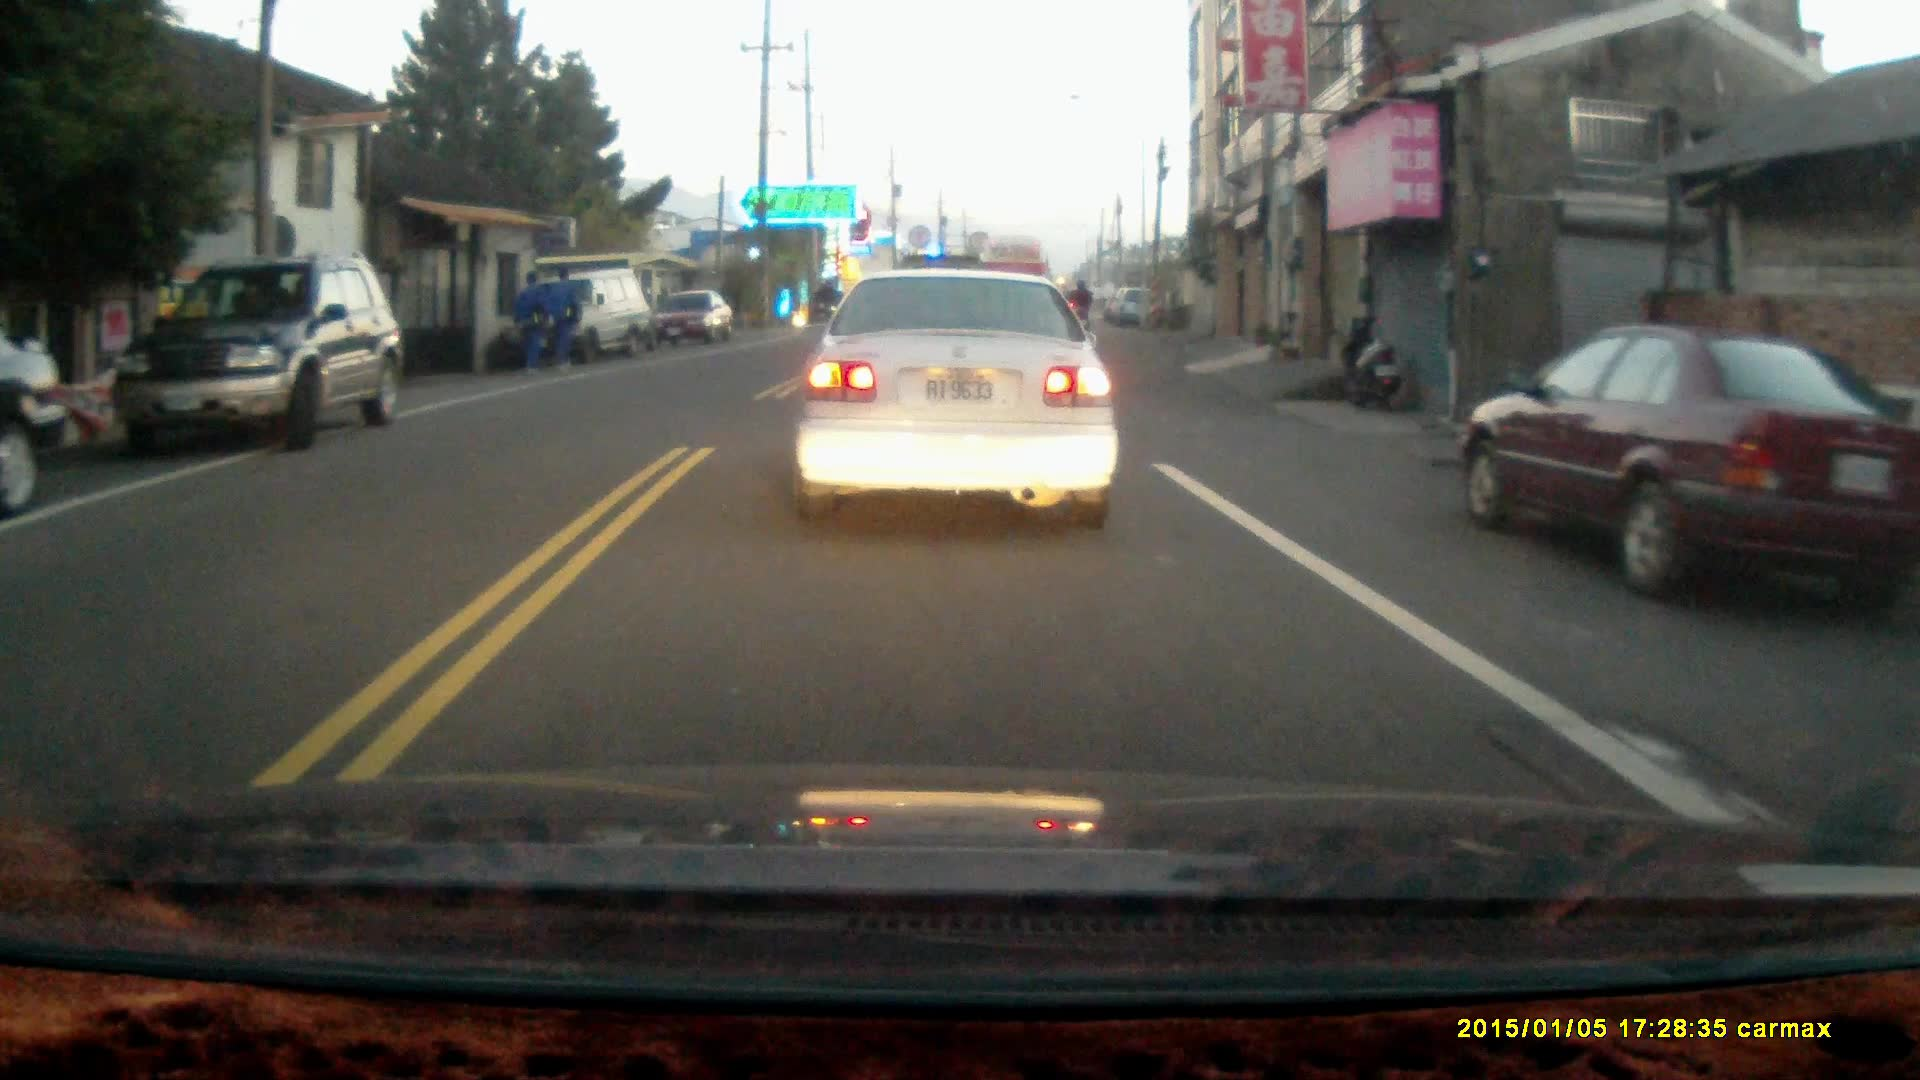pedestrian: (510, 270, 546, 381), (548, 264, 581, 375)
vehicle: (1464, 326, 1916, 606), (793, 271, 1123, 539), (115, 252, 402, 452), (1, 324, 73, 509), (533, 269, 666, 361), (645, 289, 736, 352)
